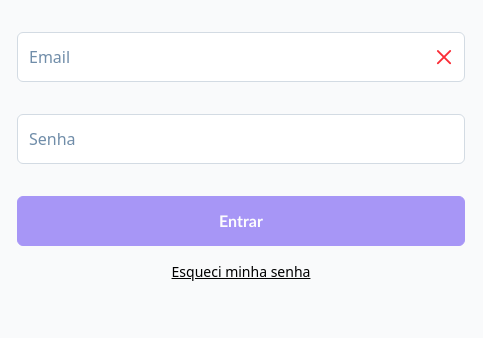
Test case: Login Component › Error Handling › displays error message for UserNotFoundException
Type "john@example.com" into the field labelled "Email". click: coordinates (241, 57)
box: [17,32,465,82]
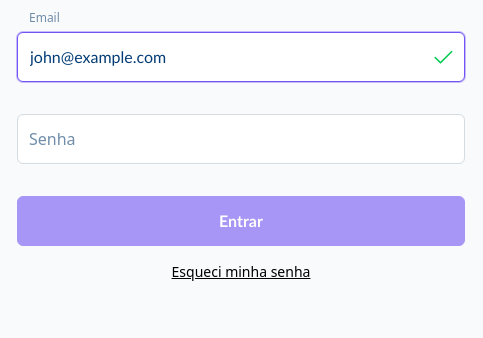
Type "password123" into the password field labelled "Senha". click: coordinates (241, 139)
box: [17,114,465,164]
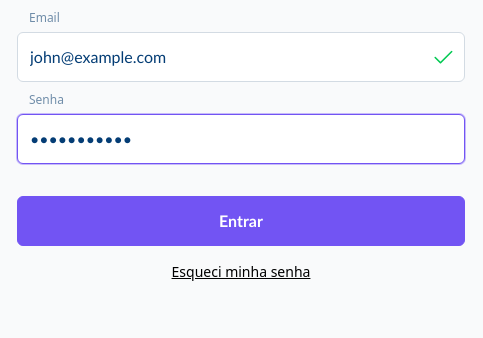
Click the button "Entrar". click: coordinates (241, 221)
box: [17,196,465,246]
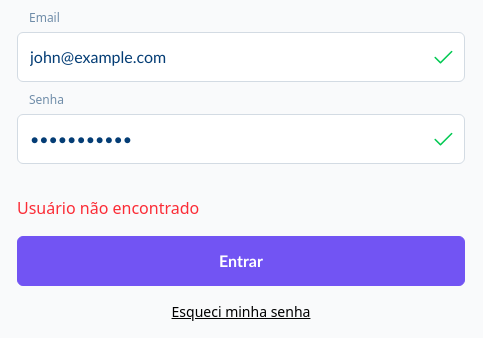
Result: the text "Usuário não encontrado" is shown at [17,197,199,219]
